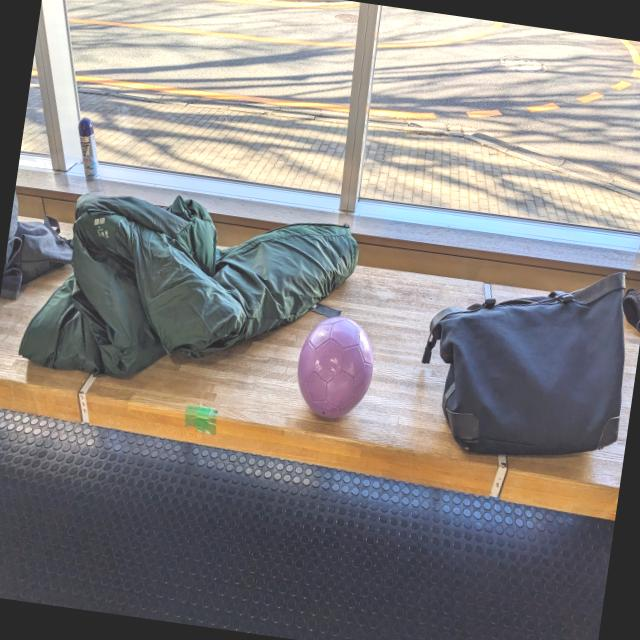purple_ball: (290, 311, 380, 428)
